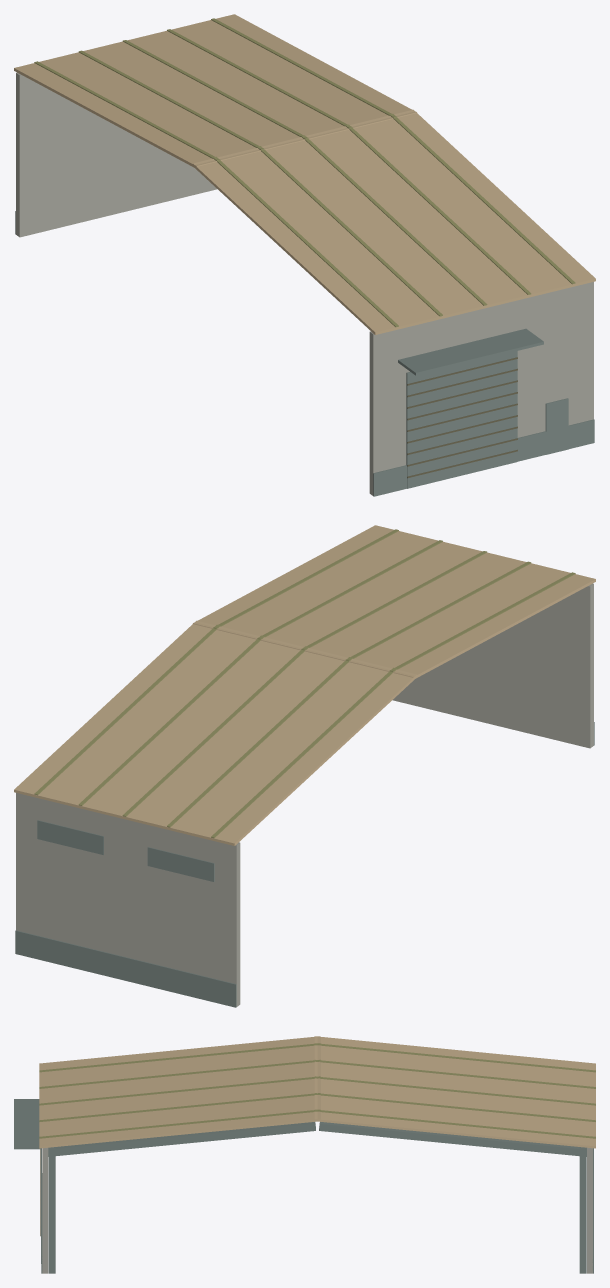
The model's file is SM_NavePoligono_Modulo_e0_Intacta_LOD0.fbx.
3 views of the same model, one above another, from view 1: azimuth 30°, elevation 25°; view 2: azimuth 150°, elevation 25°; view 3: azimuth 270°, elevation 25° (orthographic). The views are drawn at different scales.
Parts seen in each view (by area): view 1: SM_nave_poligono_v0_LOD0; view 2: SM_nave_poligono_v0_LOD0; view 3: SM_nave_poligono_v0_LOD0.
Boxes of the visible parts, left/top/right/bottom form: SM_nave_poligono_v0_LOD0: left=14, top=14, right=595, bottom=496; SM_nave_poligono_v0_LOD0: left=14, top=525, right=595, bottom=1007; SM_nave_poligono_v0_LOD0: left=14, top=1036, right=595, bottom=1273.
Size of the model in its own units: 9.98 by 8.72 by 29.6.
